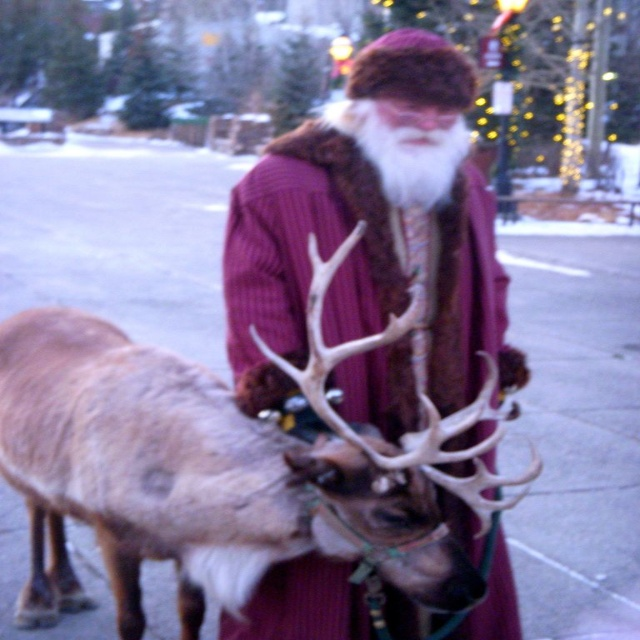Deer: (0, 217, 541, 640)
